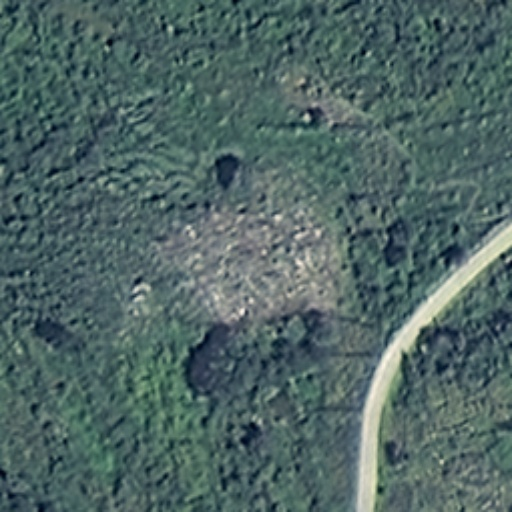landslide: (154, 182, 354, 317)
